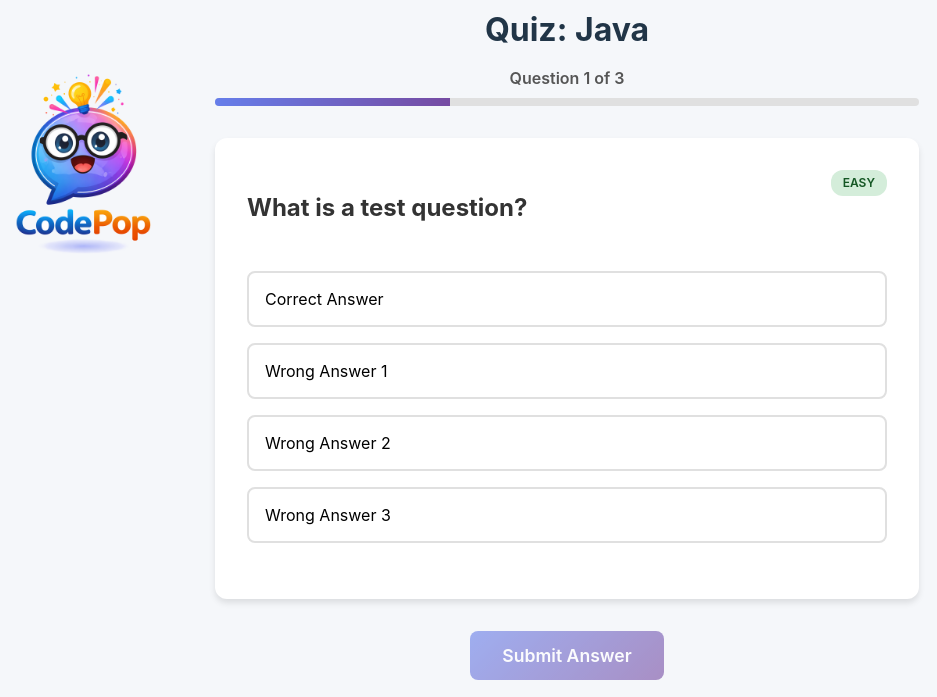
it: QuizPage › submit button is disabled until option is selected
Check: the text "What is a test question?" is shown, box x1=247 y1=193 x2=528 y2=222
Check: the button "Submit Answer" is disabled, box x1=470 y1=631 x2=664 y2=680
Click the button "Correct Answer": [324, 299] box x1=247 y1=271 x2=887 y2=327
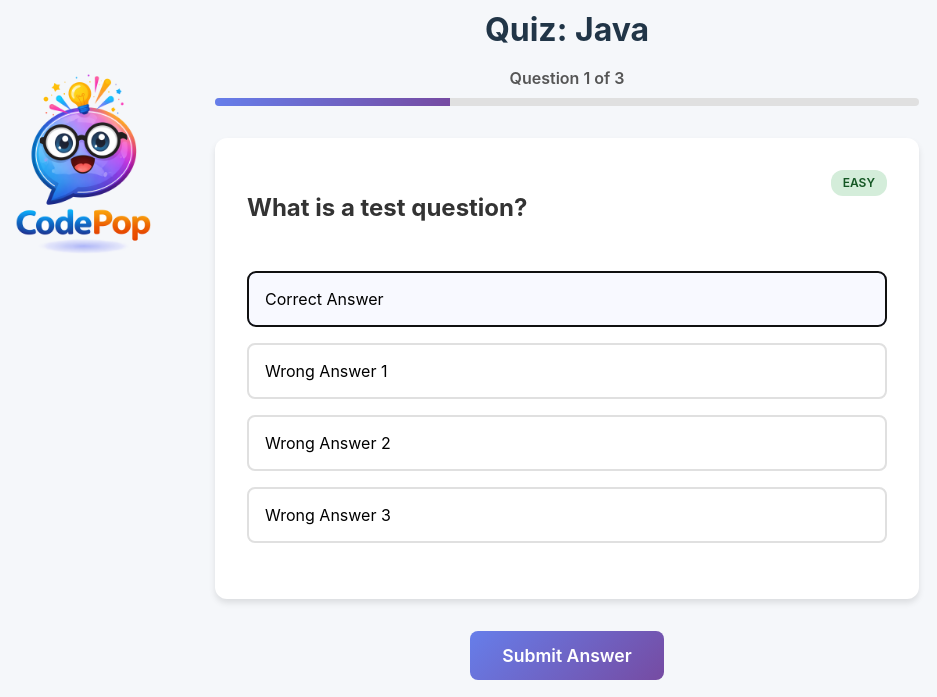
Check: the button "Submit Answer" is enabled, box x1=470 y1=631 x2=664 y2=680
